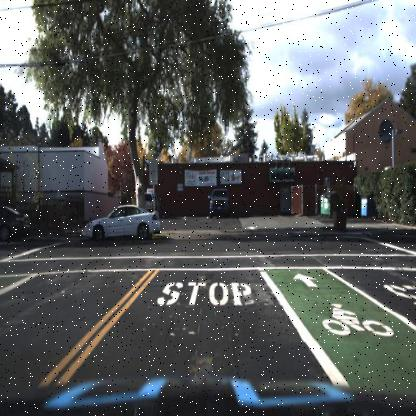car: (85, 195, 161, 250), (0, 200, 35, 247), (208, 187, 232, 217), (129, 188, 157, 212)
